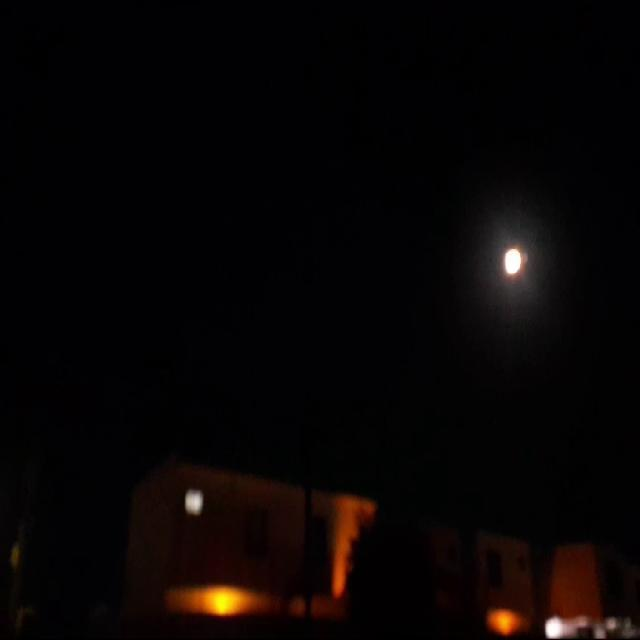moon: (504, 226, 528, 260)
